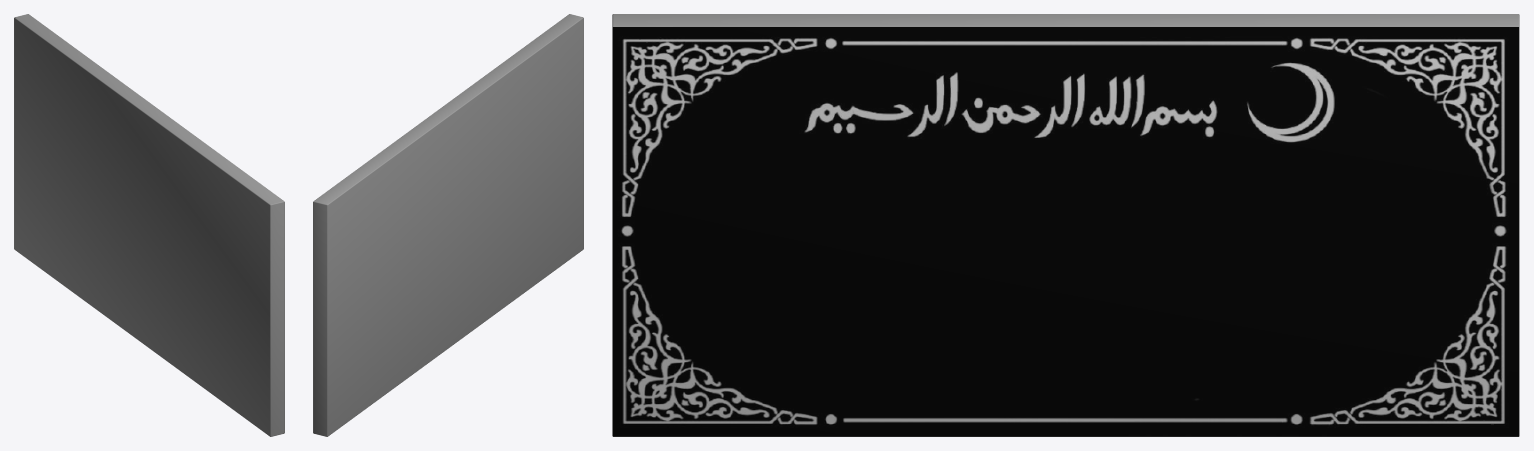
The model's file is kniga1.glb.
3 renders of one model, left to right at view 1: azimuth 30°, elevation 25°; view 2: azimuth 150°, elevation 25°; view 3: azimuth 270°, elevation 25°, orthographic. The views are drawn at different scales.
Visible parts, largest first — view 1: Cube.007; view 2: Cube.007; view 3: Cube.007.
Boxes of the visible parts, x1,y1,x2,y2 form: Cube.007: [14, 14, 284, 436]; Cube.007: [313, 14, 583, 436]; Cube.007: [612, 14, 1519, 436].
Size of the model in its own units: 0.02 by 0.3 by 0.6.
2 materials, 1 textured.
